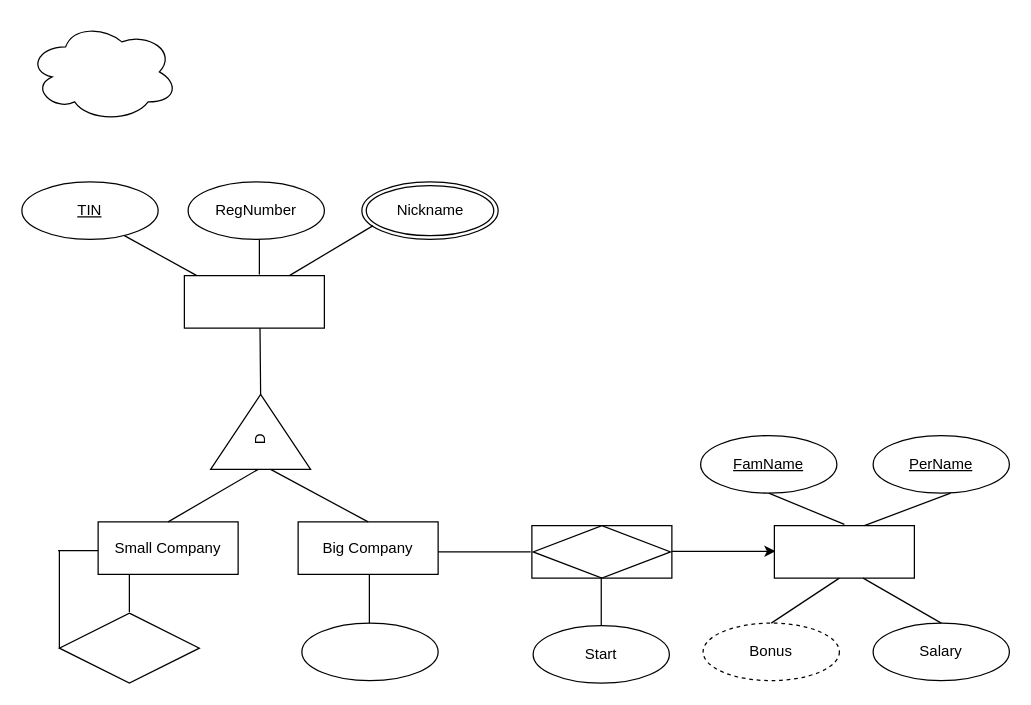
This 1031x705 diagram has some shape labels left out. The shapes that lost their labels are listed below. From the top down, each one's box as (x1, y1, x2, y2) in pixels, then its label:
(27, 21, 178, 122): jw6602
(183, 274, 324, 328): Company
(532, 524, 671, 578): Supervise
(773, 524, 914, 578): Manager
(58, 612, 199, 683): Help
(301, 622, 438, 681): Value
